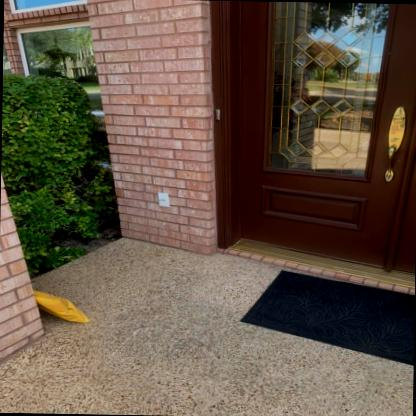envelope: (29, 290, 94, 328)
